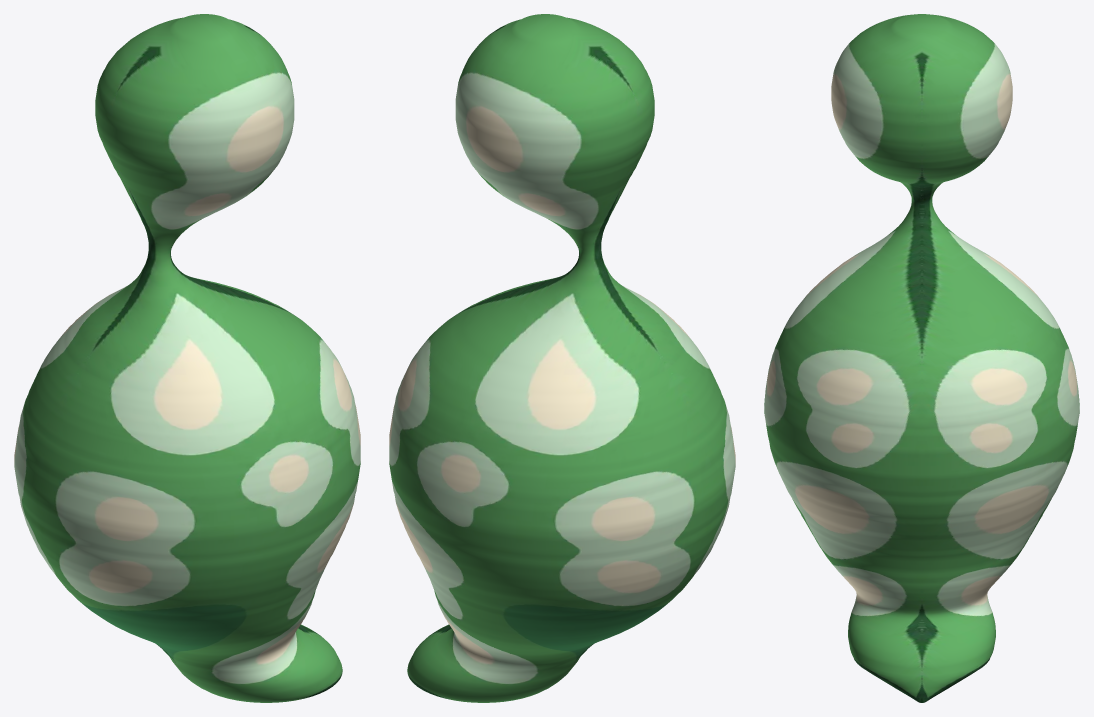
Rendered from green_pod_plant.glb.
3 renders of one model, left to right at view 1: azimuth 30°, elevation 25°; view 2: azimuth 150°, elevation 25°; view 3: azimuth 270°, elevation 25°, orthographic. The views are drawn at different scales.
Visible parts, largest first — view 1: green_pod_plant; view 2: green_pod_plant; view 3: green_pod_plant.
Part boxes in pixels (box(x1,y1,x2,y2)): green_pod_plant: box(14, 14, 360, 702); green_pod_plant: box(389, 14, 735, 702); green_pod_plant: box(764, 14, 1079, 702).
Size of the model in its own units: 1 by 2.17 by 1.
Materials: 1 (1 with a texture image).
